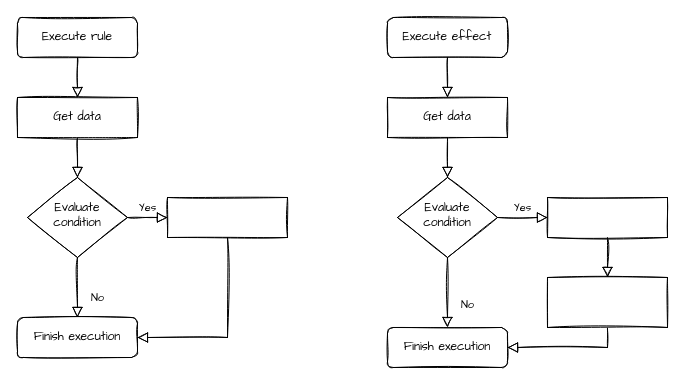
This 685x385 diagram has some shape labels left out. The shapes that lost their labels are listed below. From the top down, each one's centre as x and y in pixels, then its label:
point (227, 217): Run provided action on data
point (607, 217): Execute modifier
point (607, 302): Run provided action on return data from modifier
